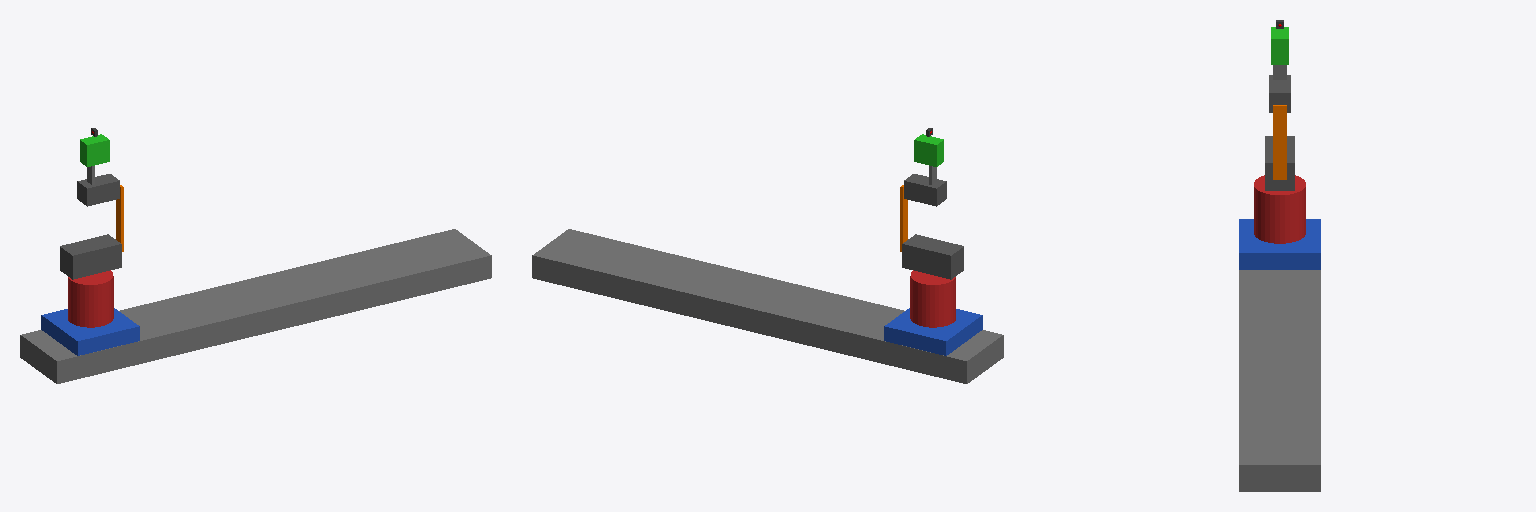
The robot description file, URDF, robot "prep_bot":
<?xml version="1.0"?>
<robot name="prep_bot">

  <link name="base_link">
    <visual>
      <origin xyz="0 0 0" rpy="0 0 0"/>
      <geometry>
        <box size="1.0668 0.1549 0.0540"/>  <!-- 42" × 6.1" × 2.125" rail -->
      </geometry>
      <material name="gray">
        <color rgba="0.5 0.5 0.5 1"/>
      </material>
    </visual>
    <collision>
      <origin xyz="0 0 0" rpy="0 0 0"/>
      <geometry>
        <box size="1.0668 0.1549 0.0540"/>
      </geometry>
    </collision>
  </link>

  <link name="linear_carriage">
    <visual>
      <origin xyz="0 0 0" rpy="0 0 0"/>
      <geometry>
        <box size="0.1524 0.1533 0.0617"/>  <!-- 6" × 6.035" × 2.43" carriage -->
      </geometry>
      <material name="blue">
        <color rgba="0.2 0.4 0.8 1"/>
      </material>
    </visual>
    <collision>
      <origin xyz="0 0 0" rpy="0 0 0"/>
      <geometry>
        <box size="0.1524 0.1533 0.0617"/>
      </geometry>
    </collision>
  </link>

  <joint name="linear_joint" type="prismatic">
    <parent link="base_link"/>
    <child link="linear_carriage"/>
    <origin xyz="-0.4061 0 0.0308" rpy="0 0 0"/>  <!-- Start at left endstop (home), offset to center rail visually -->
    <axis xyz="1 0 0"/>
    <limit lower="0" upper="0.8123" effort="100" velocity="0.1"/>  <!-- 0 (left) to 31.98" (right) -->
  </joint>

  <link name="rotation_link">
    <!-- Rotation cylinder -->
    <visual>
      <origin xyz="0 0 0" rpy="0 0 0"/>
      <geometry>
        <cylinder length="0.1" radius="0.0489"/>  <!-- 100mm height, 48.9mm radius -->
      </geometry>
      <material name="red">
        <color rgba="0.8 0.2 0.2 1"/>
      </material>
    </visual>
    <collision>
      <origin xyz="0 0 0" rpy="0 0 0"/>
      <geometry>
        <cylinder length="0.1" radius="0.0489"/>
      </geometry>
    </collision>
    
    <!-- Shoulder motor (part of rotation_link) -->
    <visual>
      <origin xyz="0 0 0.093" rpy="0 0 0"/>
      <geometry>
        <box size="0.120 0.056 0.056"/>  <!-- 56mm × 56mm × 120mm motor -->
      </geometry>
      <material name="motor_gray">
        <color rgba="0.4 0.4 0.4 1"/>
      </material>
    </visual>
    <collision>
      <origin xyz="0 0 0.093" rpy="0 0 0"/>
      <geometry>
        <box size="0.120 0.056 0.056"/>
      </geometry>
    </collision>
  </link>

  <!-- ORIGINAL rotation_joint - COMMENTED OUT (motor broken, waiting for replacement)
  <joint name="rotation_joint" type="revolute">
    <parent link="linear_carriage"/>
    <child link="rotation_link"/>
    <origin xyz="0 0 0.0809" rpy="0 0 0"/>
    <axis xyz="0 0 1"/>
    <limit lower="-3.14159" upper="3.14159" effort="10" velocity="2.0"/>
  </joint>
  -->

  <!-- TEMPORARY: Fixed rotation joint while motor is broken -->
  <joint name="rotation_joint" type="fixed">
    <parent link="linear_carriage"/>
    <child link="rotation_link"/>
    <origin xyz="0 0 0.0872" rpy="0 0 0"/>
  </joint>

  <link name="shoulder_link">
    <!-- Shoulder link plate -->
    <visual>
      <origin xyz="0.07129 0 0.0762" rpy="0 0 1.5708"/>
      <geometry>
        <box size="0.0244 0.0053 0.1524"/>
      </geometry>
      <material name="orange">
        <color rgba="1.0 0.5 0.0 1"/>
      </material>
    </visual>
    <collision>
      <origin xyz="0.07129 0 0.0762" rpy="0 0 1.5708"/>
      <geometry>
        <box size="0.0244 0.0053 0.1524"/>
      </geometry>
    </collision>
    
    <!-- Elbow motor (part of shoulder_link) -->
    <visual>
      <origin xyz="0.02 0 0.1524" rpy="0 0 0"/>
      <geometry>
        <box size="0.080 0.0423 0.0423"/>  <!-- 80mm × 42.3mm × 42.3mm motor -->
      </geometry>
      <material name="motor_gray">
        <color rgba="0.4 0.4 0.4 1"/>
      </material>
    </visual>
    <collision>
      <origin xyz="0 0 0.1524" rpy="0 0 0"/>
      <geometry>
        <box size="0.080 0.0423 0.0423"/>
      </geometry>
    </collision>
  </link>

  <joint name="shoulder_joint" type="revolute">
    <parent link="rotation_link"/>
    <child link="shoulder_link"/>
    <origin xyz="0 0 0.093" rpy="0 0 0"/>  <!-- 43mm above cylinder top, first hole aligns here -->
    <axis xyz="1 0 0"/>  <!-- X-axis rotation (pitch) -->
    <limit lower="-2.00" upper="2.37" effort="50" velocity="1.0"/>  <!-- ±90 degrees, adjust as needed -->
  </joint>

  <link name="elbow_link">
    <visual>
      <!-- 68.6mm / 2 -->
      <origin xyz="0 0 0.0343" rpy="0 0 1.5708"/>
      <geometry>
        <box size="0.0244 0.0053 0.0686"/>
      </geometry>
      <material name="transparent_gray">
        <color rgba="0.5 0.5 0.5 0.3"/>
      </material>
    </visual>
    <collision>
      <!-- Minimal collision sphere to satisfy URDF requirements -->
      <origin xyz="0 0 0.0343" rpy="0 0 0"/>
      <geometry>
        <sphere radius="0.005"/>
      </geometry>
    </collision>
  </link>

  <joint name="elbow_joint" type="revolute">
    <parent link="shoulder_link"/>
    <child link="elbow_link"/>
    <origin xyz="0 0 0.1524" rpy="0 0 0"/>  <!-- 152.4mm above shoulder joint -->
    <axis xyz="1 0 0"/>  <!-- X-axis rotation (pitch) -->
    <limit lower="-1.57" upper="1.57" effort="50" velocity="1.0"/>  <!-- ±90 degrees, adjust as needed -->
  </joint>

  <link name="gripper_body">
    <visual>
      <origin xyz="0 0 0" rpy="0 0 0"/>
      <geometry>
        <box size="0.054761 0.032735 0.051896"/>  <!-- 54.761mm × 32.735mm × 51.896mm gripper body -->
      </geometry>
      <material name="green">
        <color rgba="0.2 0.8 0.2 1"/>
      </material>
    </visual>
    <collision>
      <origin xyz="0 0 0" rpy="0 0 0"/>
      <geometry>
        <box size="0.054761 0.032735 0.051896"/>
      </geometry>
    </collision>
  </link>

  <joint name="gripper_joint" type="fixed">
    <parent link="elbow_link"/>
    <child link="gripper_body"/>
     <!-- bottom is 68.6 + 51.896/2 above elbow joint -->
    <origin xyz="0.01 0 0.0945" rpy="0 0 0"/>  <!-- Shifted 10mm in X for print tolerance -->
  </joint>

  <!-- Left gripper paddle -->
  <link name="gripper_left">
    <visual>
      <origin xyz="0 0 0" rpy="0 0 0"/>
      <geometry>
        <box size="0.00382 0.015 0.014456"/>
      </geometry>
      <material name="dark_gray">
        <color rgba="0.3 0.3 0.3 1"/>
      </material>
    </visual>
    <collision>
      <origin xyz="0 0 0" rpy="0 0 0"/>
      <geometry>
        <box size="0.00382 0.015 0.014456"/>
      </geometry>
    </collision>
  </link>

  <joint name="gripper_left_joint" type="prismatic">
    <parent link="elbow_link"/>
    <child link="gripper_left"/>
    <origin xyz="0.01191 0 0.137737" rpy="0 0 0"/>  <!-- Shifted 10mm in X + 1.91mm (half thickness) -->
    <axis xyz="1 0 0"/>  <!-- X-axis (open/close) -->
    <limit lower="0" upper="0.02" effort="10" velocity="0.05"/>  <!-- 0-20mm travel -->
  </joint>

  <!-- Right gripper paddle -->
  <link name="gripper_right">
    <visual>
      <origin xyz="0 0 0" rpy="0 0 0"/>
      <geometry>
        <box size="0.00382 0.015 0.014456"/>
      </geometry>
      <material name="dark_gray">
        <color rgba="0.3 0.3 0.3 1"/>
      </material>
    </visual>
    <collision>
      <origin xyz="0 0 0" rpy="0 0 0"/>
      <geometry>
        <box size="0.00382 0.015 0.014456"/>
      </geometry>
    </collision>
  </link>

  <joint name="gripper_right_joint" type="prismatic">
    <parent link="elbow_link"/>
    <child link="gripper_right"/>
    <origin xyz="0.00809 0 0.137737" rpy="0 0 0"/>  <!-- Shifted 10mm in X - 1.91mm (half thickness) -->
    <axis xyz="1 0 0"/>  <!-- Same X-axis -->
    <limit lower="-0.02" upper="0" effort="10" velocity="0.05"/>  <!-- -20mm to 0 travel (opposite) -->
    <mimic joint="gripper_left_joint" multiplier="-1" offset="0"/>  <!-- Mirrors left paddle -->
  </joint>

  <!-- Grasp frame - point between gripper paddles -->
  <link name="grasp_frame">
    <visual>
      <geometry>
        <sphere radius="0.005"/>
      </geometry>
      <material name="red">
        <color rgba="1 0 0 1"/>
      </material>
    </visual>
  </link>

  <joint name="grasp_frame_joint" type="fixed">
    <parent link="elbow_link"/>
    <child link="grasp_frame"/>
    <origin xyz="0.01 0 0.138" rpy="0 0 0"/>  <!-- Shifted 10mm in X to match gripper_body offset, 138mm in Z to center between paddles -->
  </joint>

</robot>

--- Render facts (derived) ---
3 views of the same robot in one strip: view 1: azimuth 30°, elevation 25°; view 2: azimuth 150°, elevation 25°; view 3: azimuth 270°, elevation 25° (orthographic).
Model prep_bot with 9 links and 8 joints (2 revolute, 3 prismatic, 3 fixed), rooted at base_link, posed all joints at 0.
Links seen in each view (by area): view 1: base_link, rotation_link, linear_carriage, shoulder_link, gripper_body; view 2: base_link, rotation_link, linear_carriage, shoulder_link, gripper_body; view 3: base_link, rotation_link, linear_carriage, shoulder_link, gripper_body.
Link boxes in pixels (x1,y1,x2,y2): base_link: (20, 229, 491, 383); rotation_link: (60, 234, 121, 327); linear_carriage: (41, 308, 139, 355); shoulder_link: (77, 174, 123, 251); gripper_body: (80, 134, 109, 166); base_link: (532, 229, 1003, 383); rotation_link: (902, 234, 963, 327); linear_carriage: (884, 308, 982, 355); shoulder_link: (900, 174, 946, 251); gripper_body: (914, 134, 943, 166); base_link: (1239, 270, 1320, 491); rotation_link: (1254, 136, 1305, 243); linear_carriage: (1239, 219, 1320, 269); shoulder_link: (1269, 75, 1290, 179); gripper_body: (1271, 27, 1288, 64).
Bounding box of the posed robot: 1.07 × 0.1549 × 0.5354 m (x, y, z).
Geometry: primitives only (box / cylinder / sphere), no mesh files.